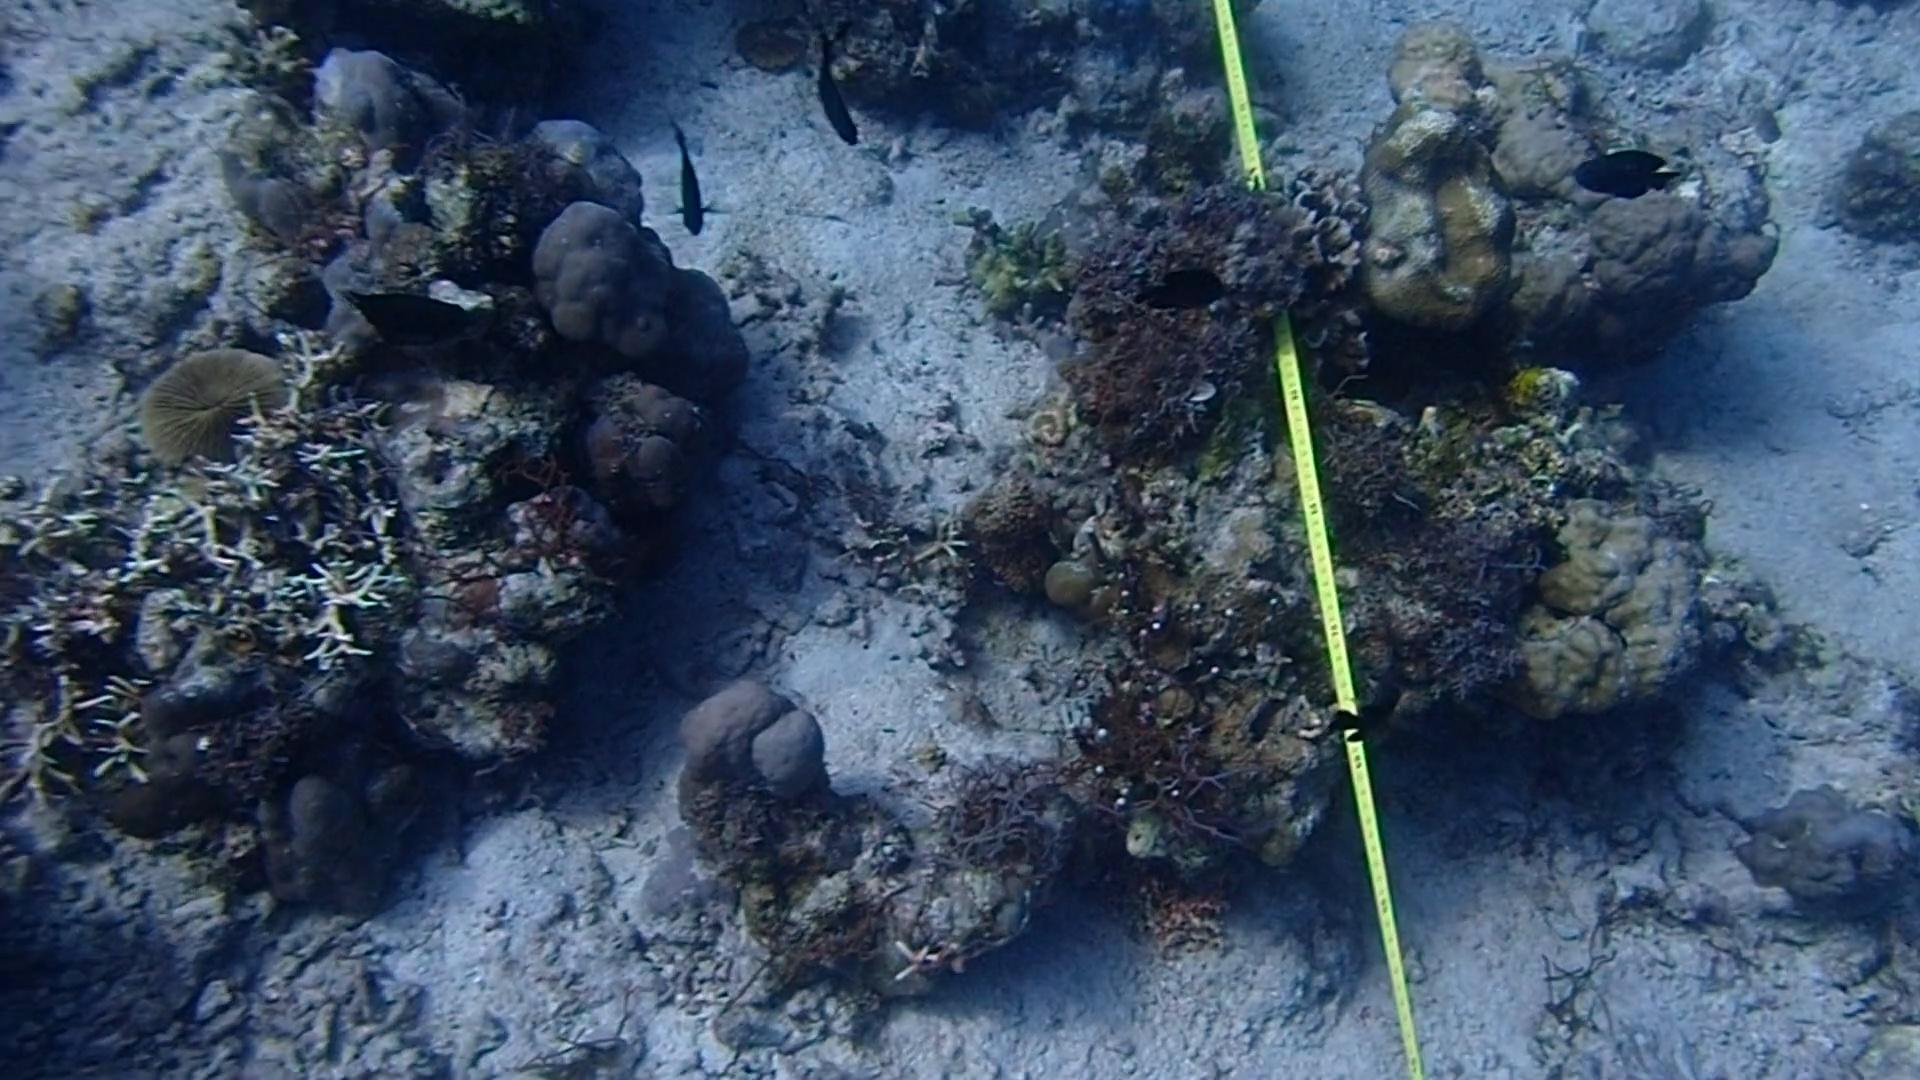Dark Fish: (328, 268, 481, 357), (650, 95, 733, 249), (795, 13, 881, 160), (1121, 256, 1241, 340), (1308, 688, 1448, 753), (1568, 150, 1693, 207)
